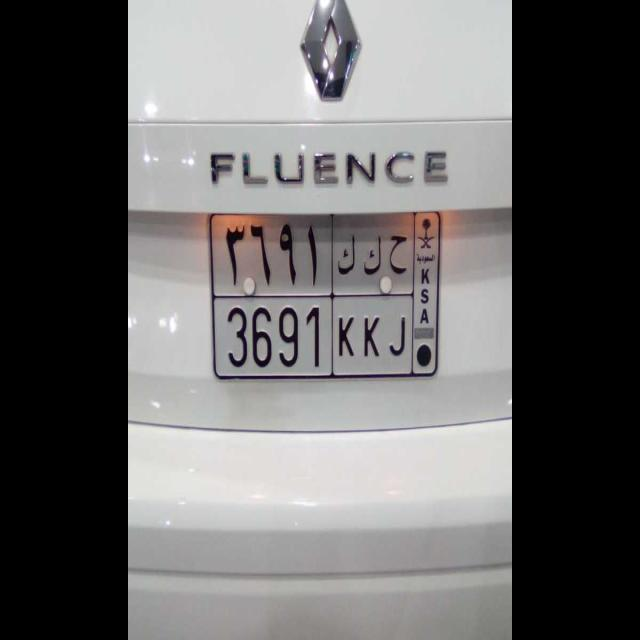license_plate: (212, 294, 415, 382)
